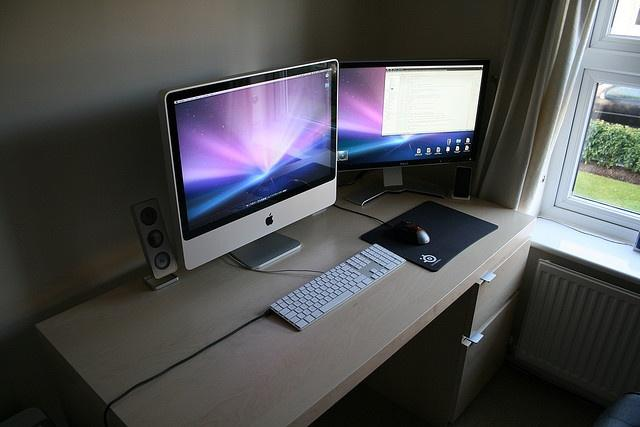AIO PC-Monitor-TV: (155, 56, 339, 269), (335, 57, 491, 206)
